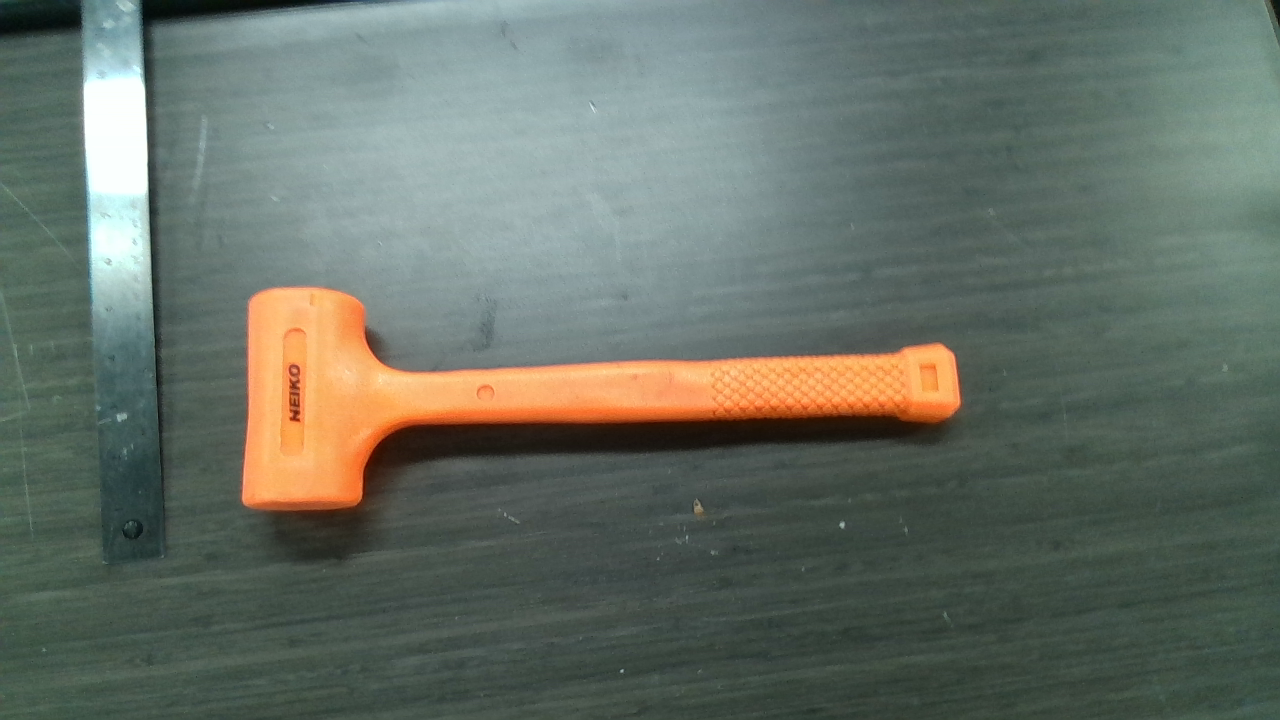Orange Hammer: (251, 287, 960, 507)
